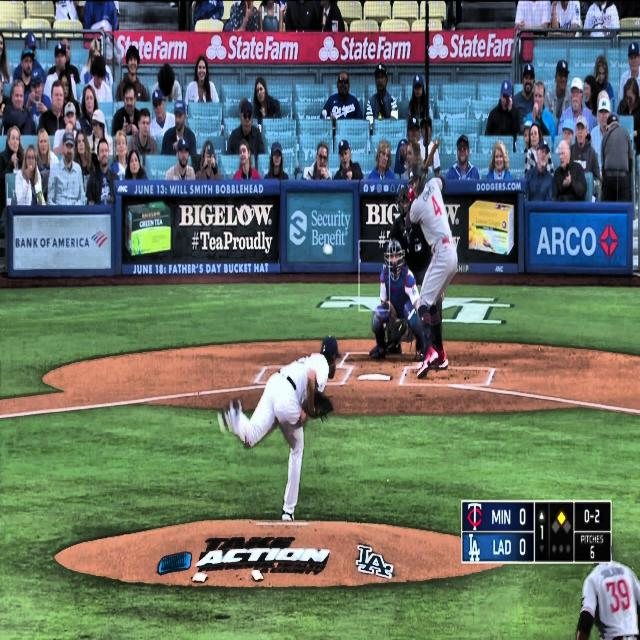baseball: (322, 242, 333, 258)
